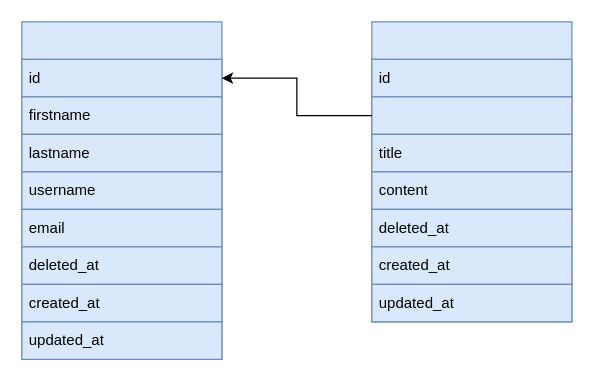
The diagram is 594 pixels wide and 381 high, and some of its shapes have lost their labels. The box of each missing label's shape, as (x1, y1, x2, y2) in pixels:
notes: (371, 21, 572, 322)
user_id: (371, 96, 572, 134)
users: (21, 21, 222, 359)
